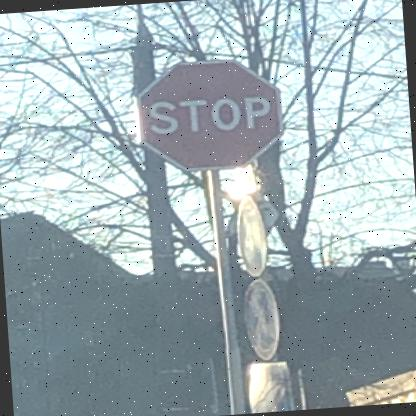stop: (132, 56, 284, 175)
